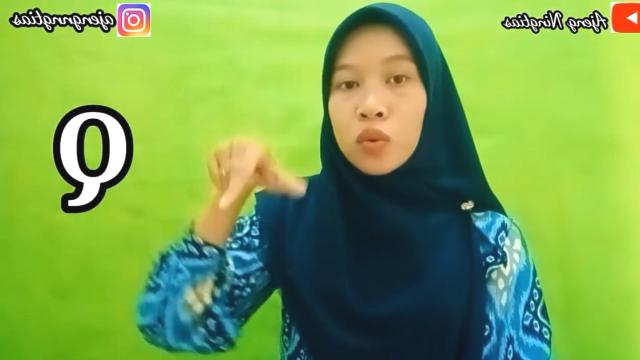Q: (204, 135, 308, 217)
